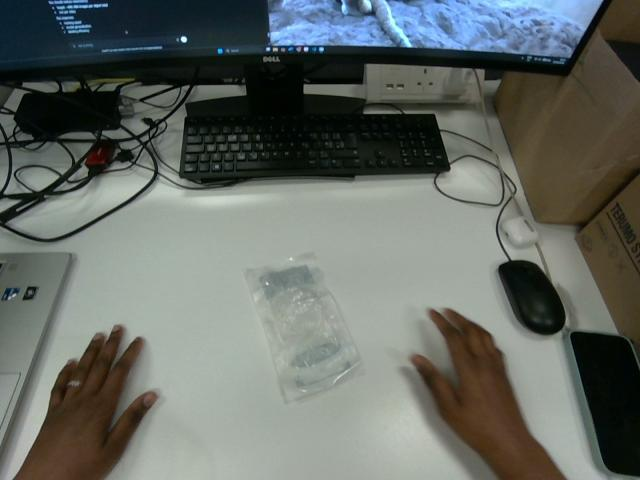gallipot: (246, 255, 361, 401)
